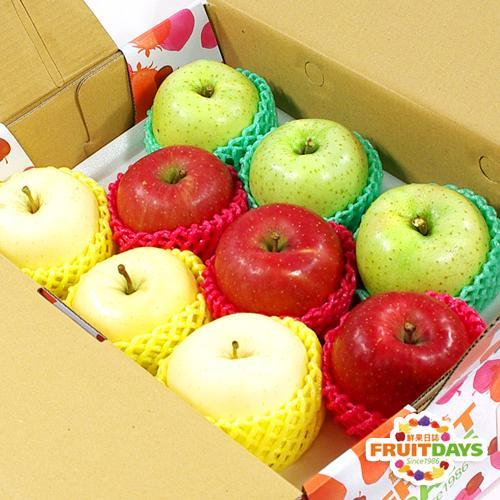apple: (163, 311, 324, 471), (320, 288, 481, 436), (354, 182, 497, 307), (212, 209, 358, 330), (1, 164, 112, 300), (247, 118, 376, 222), (67, 244, 202, 343), (111, 141, 240, 241), (145, 58, 268, 155)
